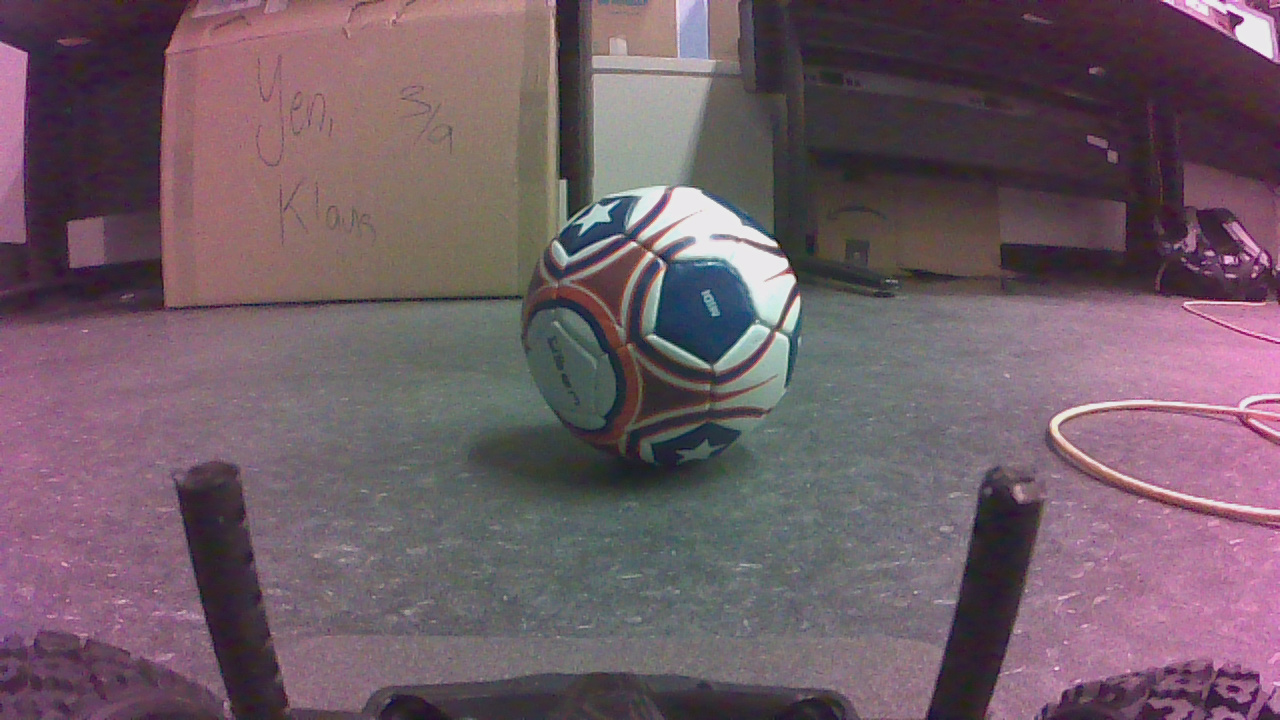ball: (523, 191, 805, 474)
